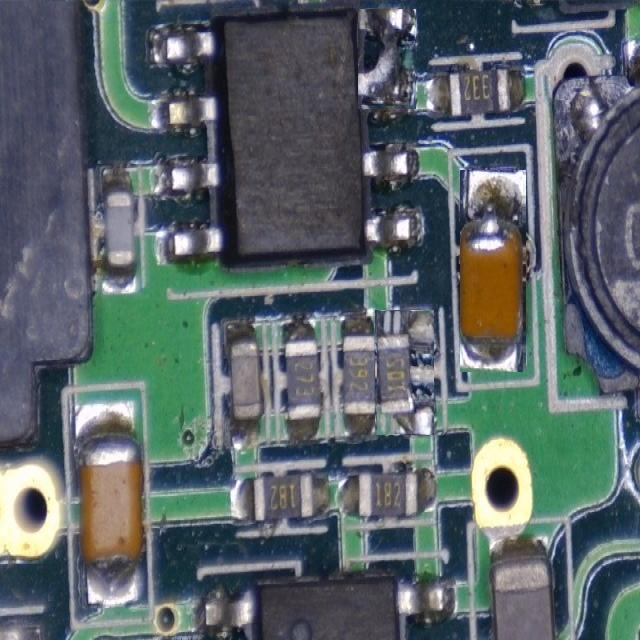Incorrect_installation: (461, 171, 524, 372), (376, 310, 434, 435)
Short_circuit: (359, 10, 415, 107)
